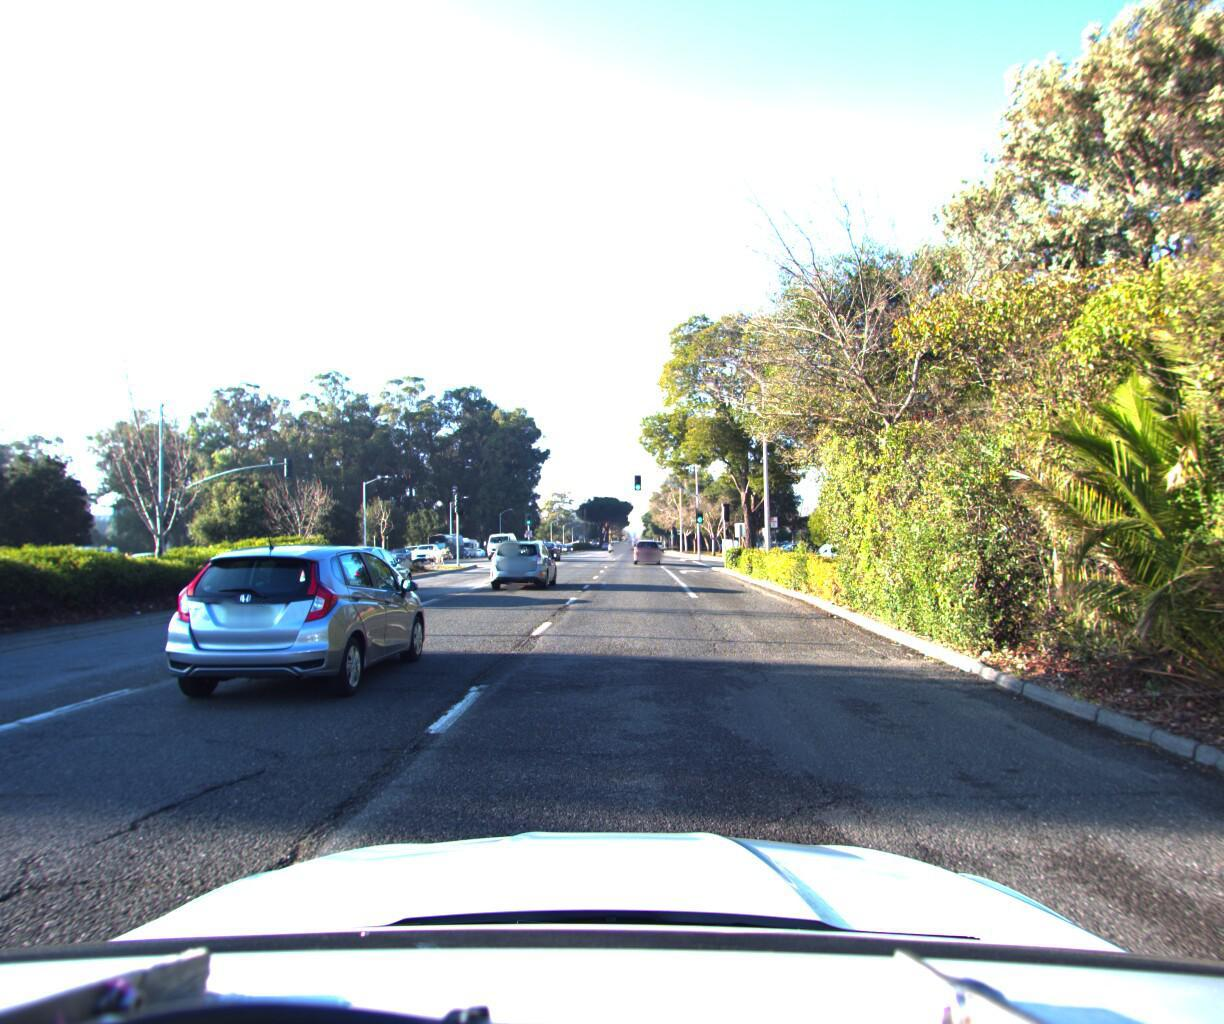car: (141, 538, 430, 713), (294, 539, 414, 603), (486, 532, 555, 586), (633, 534, 662, 559), (408, 538, 439, 558)
other_vehicle: (480, 526, 515, 555)
